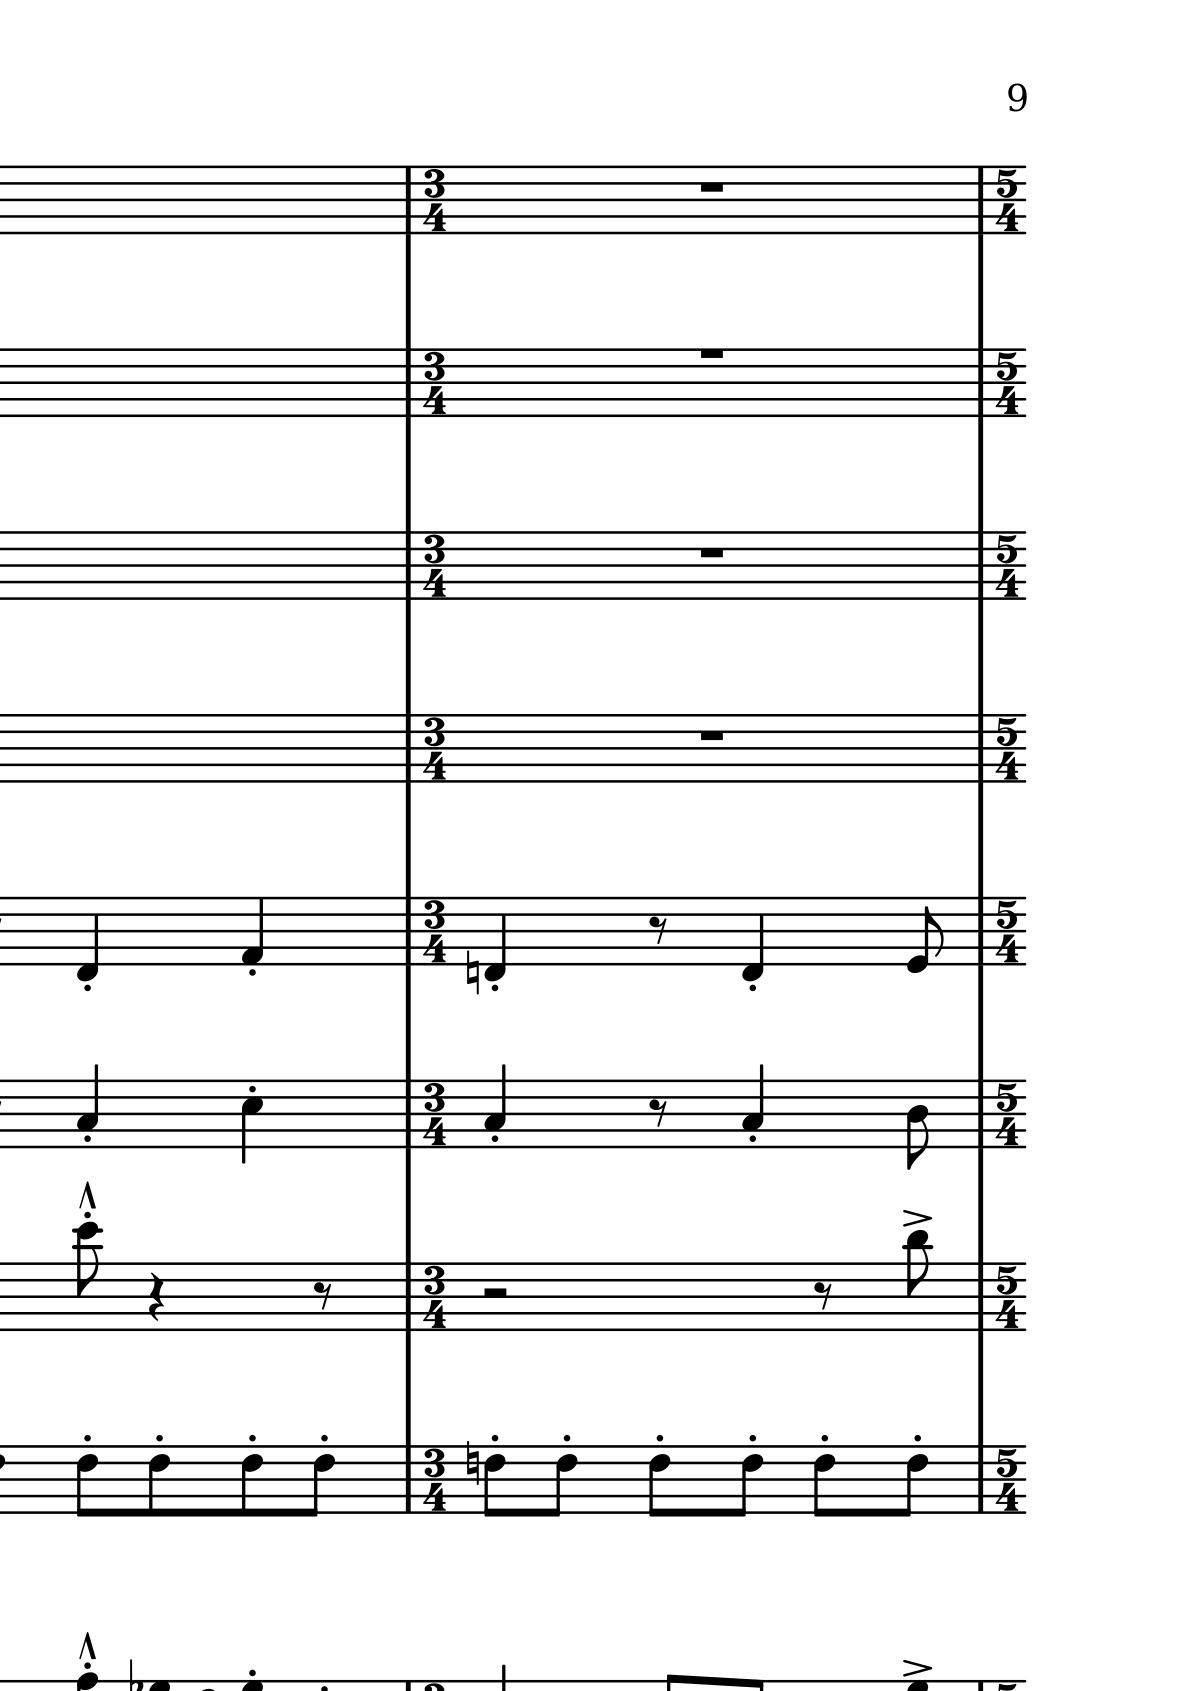3: (420, 531, 447, 565), (422, 165, 447, 200), (422, 348, 447, 383), (422, 714, 447, 749), (422, 1079, 447, 1113), (422, 1445, 447, 1479), (422, 897, 447, 930), (422, 1264, 447, 1295)
4: (971, 1264, 993, 1330), (993, 562, 1026, 599), (995, 1112, 1026, 1148), (995, 381, 1026, 416), (995, 1478, 1026, 1513), (995, 198, 1026, 231), (995, 747, 1026, 781), (995, 1295, 1026, 1329), (995, 930, 1024, 964), (420, 1295, 449, 1330), (422, 381, 449, 416), (422, 199, 449, 233), (422, 565, 449, 599), (422, 930, 447, 964), (422, 749, 449, 781), (422, 1113, 449, 1145), (422, 1480, 447, 1513)
4_-1: (74, 895, 100, 983), (482, 895, 508, 983), (740, 895, 766, 983)
4_1: (239, 896, 265, 967)
4_3: (740, 1063, 766, 1151), (75, 1063, 100, 1151), (482, 1064, 507, 1152)
4_5: (239, 1078, 265, 1166)
5: (993, 1262, 1024, 1298), (995, 1079, 1024, 1113), (995, 163, 1023, 198), (995, 346, 1023, 381), (995, 530, 1023, 565), (995, 714, 1023, 749), (993, 896, 1020, 931), (995, 1444, 1022, 1479)
8_0: (907, 896, 944, 975)
8_11: (903, 1229, 932, 1334)
8_12: (72, 1220, 103, 1334)
8_4: (905, 1078, 930, 1173)
8_6: (731, 1443, 764, 1519), (544, 1444, 578, 1519), (303, 1444, 335, 1519), (898, 1444, 929, 1519), (647, 1444, 673, 1519), (75, 1444, 100, 1519), (812, 1445, 837, 1519), (147, 1444, 171, 1519), (241, 1444, 264, 1519), (482, 1445, 506, 1519)
9: (1006, 79, 1029, 112)
Accent_above: (900, 1655, 932, 1678), (900, 1206, 932, 1228)
Marcato_above: (74, 1182, 101, 1214)
Natural: (462, 1440, 480, 1485), (463, 948, 480, 995)
Rests1: (696, 178, 727, 197), (696, 544, 727, 562), (696, 345, 727, 362), (696, 727, 726, 743)
Rests2: (479, 1284, 511, 1303)
Rests4: (144, 1270, 168, 1325)
Rests8: (310, 1280, 334, 1312), (647, 914, 669, 948), (811, 1280, 834, 1311), (647, 1098, 669, 1129)
Single_barline: (396, 533, 420, 599), (397, 165, 420, 233), (396, 349, 419, 416), (970, 348, 991, 418), (970, 531, 991, 600), (397, 1079, 418, 1148), (971, 165, 991, 235), (398, 714, 418, 783), (971, 714, 991, 783), (398, 1262, 418, 1332), (971, 1079, 991, 1148), (398, 897, 418, 964), (970, 897, 989, 964), (971, 1262, 989, 1332), (398, 1444, 416, 1514), (971, 1445, 989, 1513)
TimeSig: (993, 1260, 1023, 1332), (420, 714, 450, 783), (420, 531, 450, 600), (995, 530, 1023, 601), (995, 165, 1023, 235), (420, 348, 449, 418), (995, 714, 1023, 783), (995, 1079, 1023, 1149), (422, 1262, 450, 1332), (422, 165, 450, 234), (995, 349, 1023, 418), (422, 1079, 450, 1148), (995, 1444, 1022, 1514), (422, 896, 449, 964), (995, 897, 1022, 966), (422, 1445, 449, 1514)
